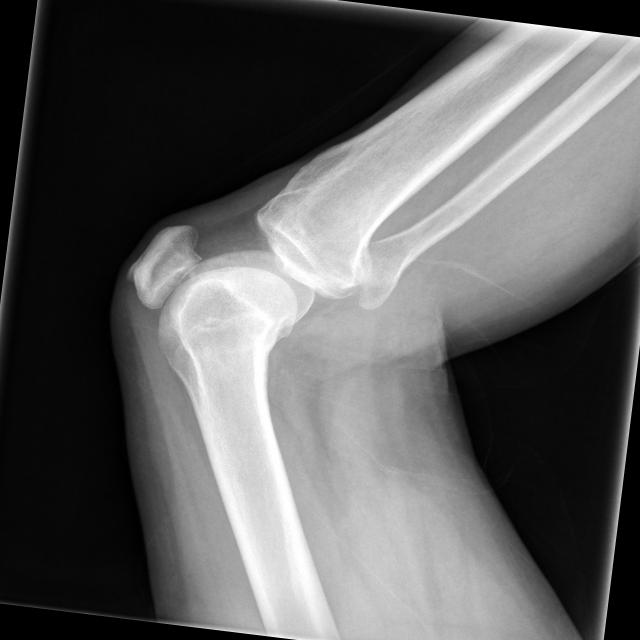Knee: (114, 155, 383, 406)
